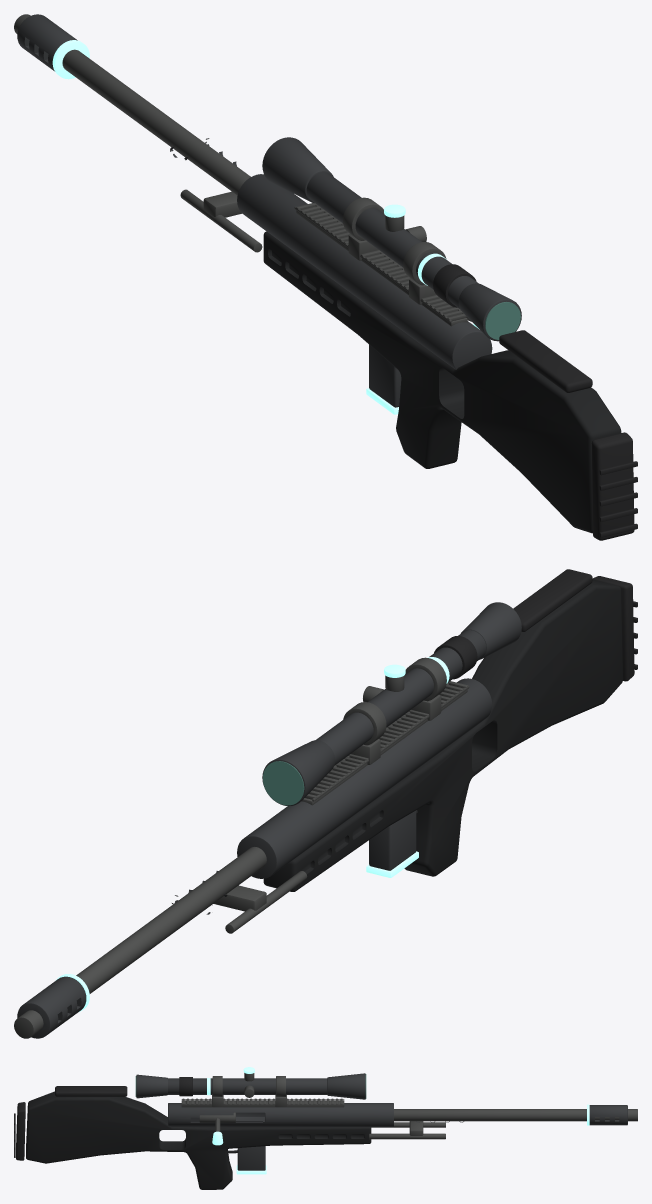
Rendered from sniper.glb.
3 views of the same model, one above another, from view 1: azimuth 30°, elevation 25°; view 2: azimuth 150°, elevation 25°; view 3: azimuth 270°, elevation 25° (orthographic). The views are drawn at different scales.
Parts seen in each view (by area): view 1: Body, Mag; view 2: Body, Mag; view 3: Body, Mag, Bolt.
Boxes of the visible parts, box(x1,y1,x2,y2) form: Body: box(14, 14, 637, 540); Mag: box(366, 345, 401, 414); Body: box(14, 569, 637, 1038); Mag: box(366, 810, 418, 877); Body: box(14, 1067, 637, 1189); Mag: box(236, 1146, 266, 1174); Bolt: box(199, 1112, 235, 1145).
Bounding box in the file's own units: 0.1262 × 0.286 × 1.38.
